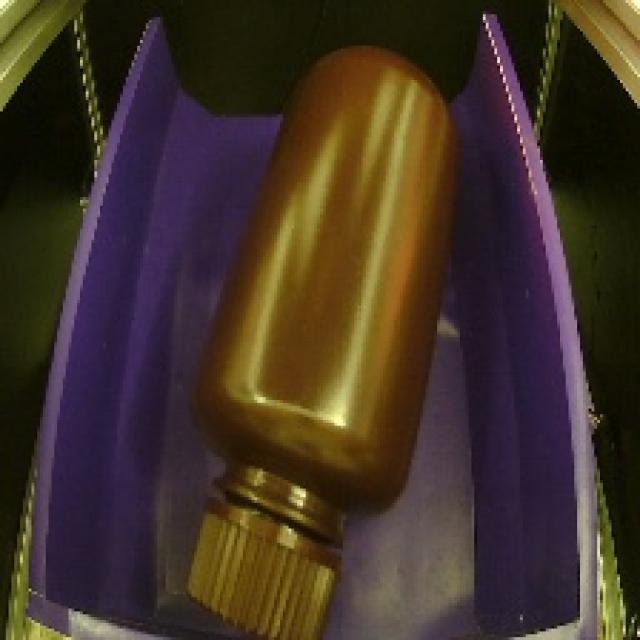plastic: (170, 31, 480, 640)
